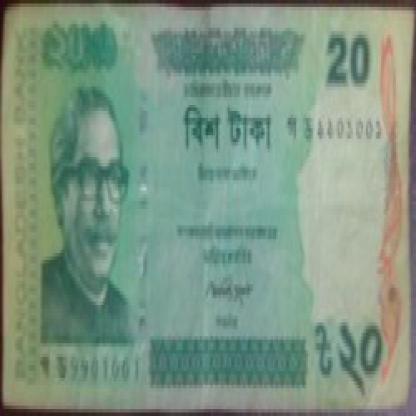Twenty: (311, 316, 388, 395), (178, 104, 278, 163), (40, 21, 118, 76), (326, 18, 381, 84)
